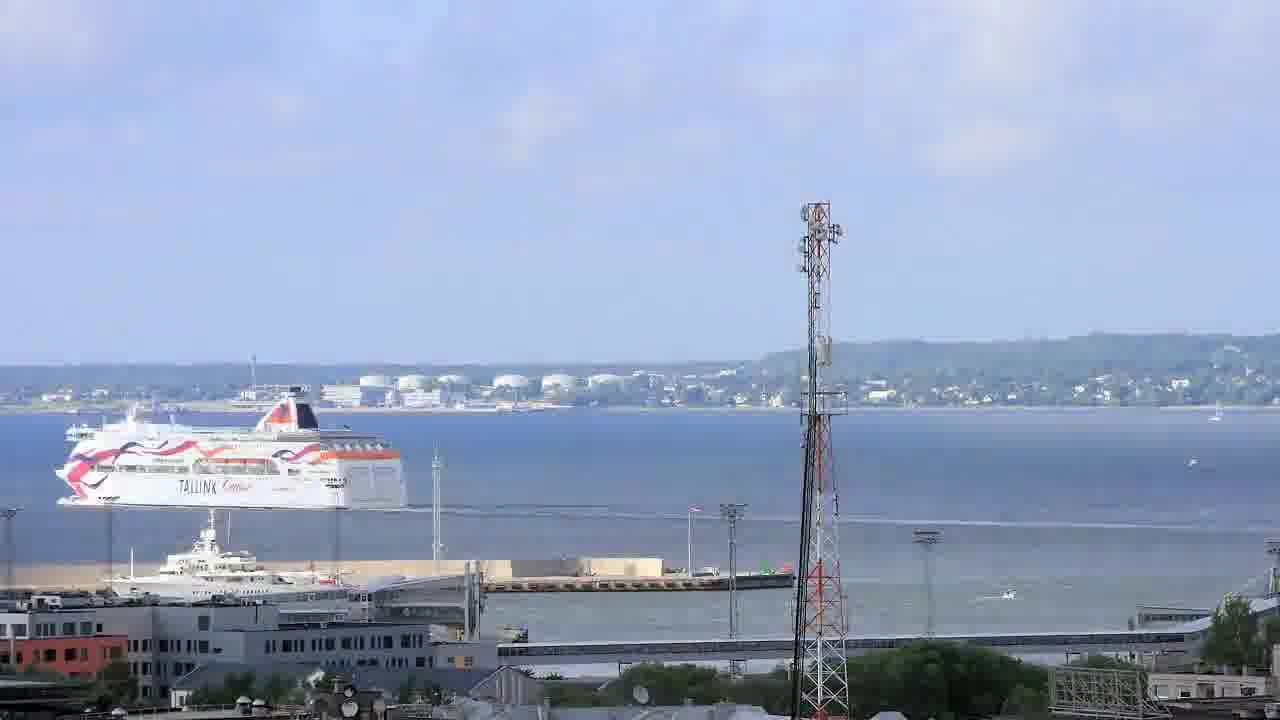type-3: (44, 364, 426, 517), (96, 508, 381, 605)
type-4: (989, 574, 1022, 616)
